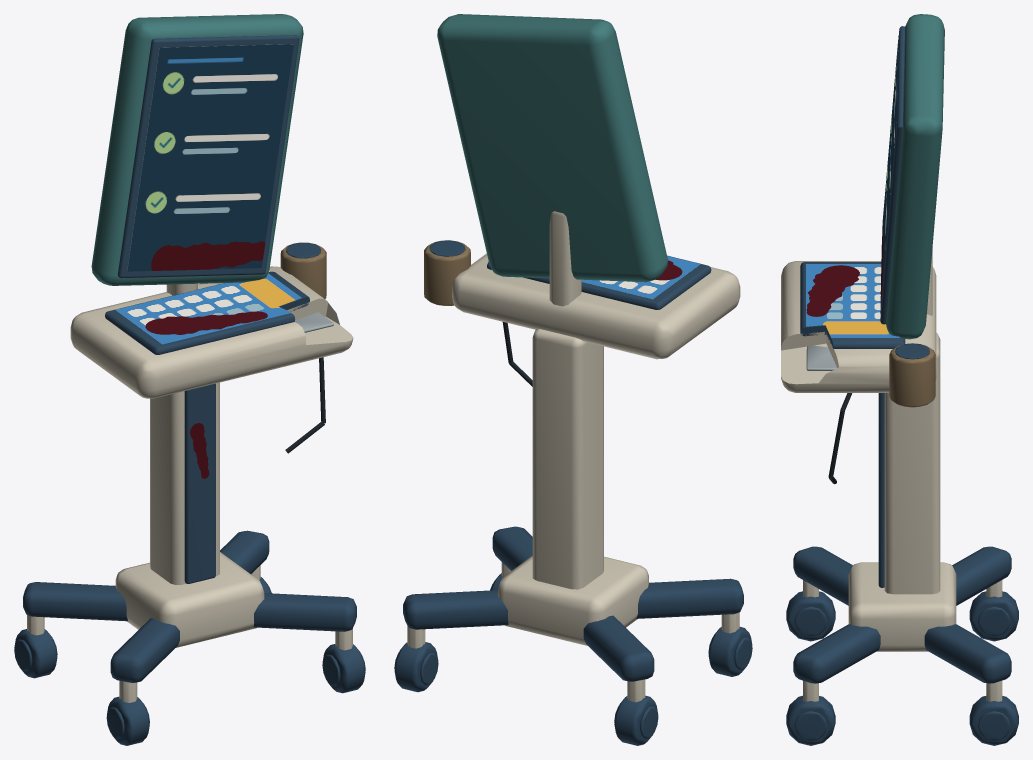
The model's file is pacu_station.glb.
3 renders of one model, left to right at view 1: azimuth 30°, elevation 25°; view 2: azimuth 150°, elevation 25°; view 3: azimuth 270°, elevation 25°, orthographic. The views are drawn at different scales.
Visible parts, largest first — view 1: OB_PACUStation_01_Static; view 2: OB_PACUStation_01_Static; view 3: OB_PACUStation_01_Static.
Part boxes in pixels (left/top/right/bottom): OB_PACUStation_01_Static: left=14, top=14, right=365, bottom=745; OB_PACUStation_01_Static: left=394, top=14, right=752, bottom=745; OB_PACUStation_01_Static: left=781, top=14, right=1018, bottom=745.
Bounding box in the file's own units: 0.75 × 1.82 × 0.597.
8 materials, 1 textured.
